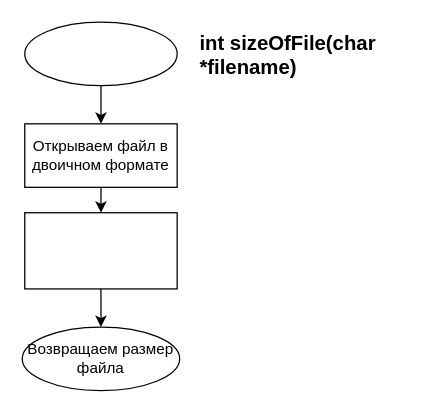
The diagram is 448 pixels wide and 413 high, and some of its shapes have lost their labels. Here are the shapes that lost their labels. From the top down, the box of each, then its label:
(23, 21, 177, 86): НАЧАЛО
(23, 211, 177, 289): Переносим указатель чтения на конец файла
